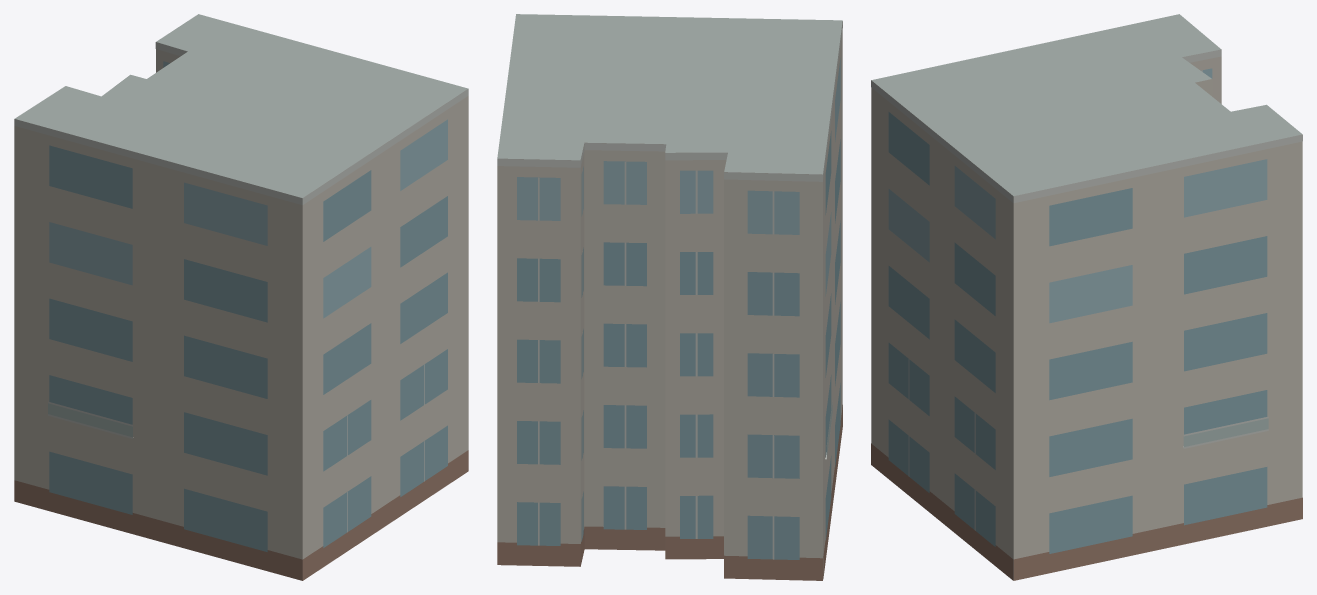
The model's file is survey-upis-32902093.glb.
3 renders of one model, left to right at view 1: azimuth 30°, elevation 25°; view 2: azimuth 150°, elevation 25°; view 3: azimuth 270°, elevation 25°, orthographic. The views are drawn at different scales.
Visible parts, largest first — view 1: survey-upis-32902093.tmp; view 2: survey-upis-32902093.tmp; view 3: survey-upis-32902093.tmp.
Boxes of the visible parts, x1,y1,x2,y2 form: survey-upis-32902093.tmp: (14,14,468,580); survey-upis-32902093.tmp: (497,14,842,580); survey-upis-32902093.tmp: (871,14,1302,580).
Bounding box in the file's own units: 13.52 × 13.3 × 13.54.
